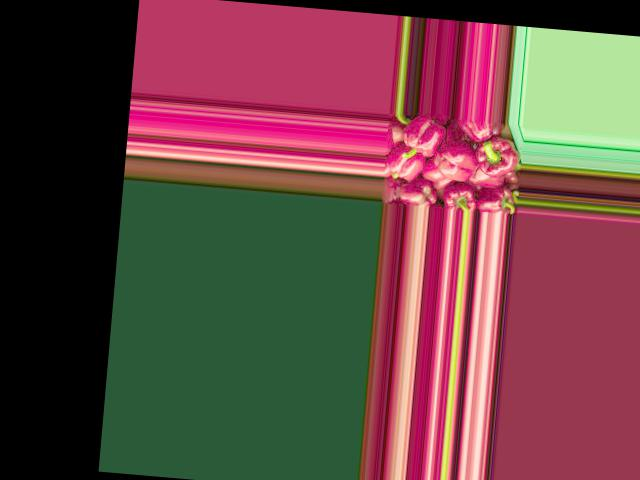bell_pepper: (478, 185, 517, 214)
